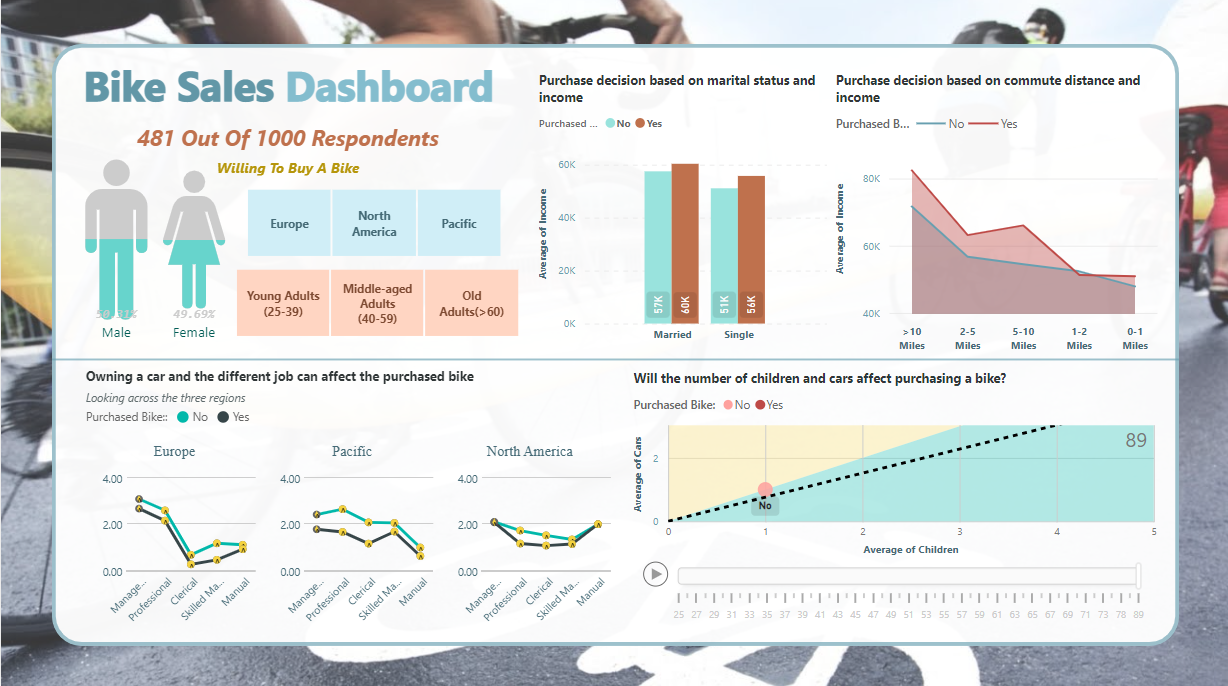

The dashboard page shown, as its layout file describes it:
{"tool":"powerbi","page":{"name":"Page 1","canvas":[1280,720],"ordinal":0},"visuals":[{"type":"shape","box":[53,49,1174,627],"z":0},{"type":"scatterChart","title":"Will the number of children and cars affect purchasing a bike?","fields":{"Y":["Avg(Sales_of_Bike.Cars)"],"X":["Avg(Sales_of_Bike.Children)"],"Play":["Sales_of_Bike.Age"],"Series":["Sales_of_Bike.PurchasedBike"]},"box":[648,378,565,286],"z":1000},{"type":"PBI_CV_73744D90_4DC9_4F18_8BA5_EE8FA5C98035","fields":{"Category":["Sales of Bike.Gender"],"Values":["Sales_of_Bike.CountYes","Sales_of_Bike.CountNo"]},"box":[67,114,188,255],"z":2000},{"type":"clusteredColumnChart","title":"Purchase decision based on marital status and income","fields":{"Category":["Sales_of_Bike.Marital Status"],"Y":["Avg(Sales_of_Bike.Income)"],"Series":["Sales_of_Bike.PurchasedBike"]},"box":[555,78,310,291],"z":3000},{"type":"slicer","fields":{"Values":["Sales_of_Bike.Region"]},"box":[231,194,313,83],"z":4000},{"type":"slicer","fields":{"Values":["Sort_order_agebracket.Age Bracket"]},"box":[219.8,277.1,342.7,83.3],"z":5000},{"type":"areaChart","title":"Purchase decision based on commute distance and income","fields":{"Y":["Avg(Sales_of_Bike.Income)"],"Series":["Sales_of_Bike.PurchasedBike"],"Category":["Sales_of_Bike.Commute Distance"]},"box":[865,78,348,300],"z":6000},{"type":"card","fields":{"Values":["Sales_of_Bike.Total"]},"box":[113,125,373,66],"z":7000},{"type":"PBI_CV_73744D90_4DC9_4F18_8BA5_EE8FA5C98035","title":"Owning a car and the different job can affect the purchased bike","fields":{"Category":["Sales_of_Bike.Occupation"],"Legend":["Sales_of_Bike.PurchasedBike"],"Values":["Avg(Sales_of_Bike.Cars)"],"Columns":["Sales_of_Bike.Region"]},"box":[83,386,565,278],"z":8000},{"type":"textbox","box":[53,57,493,68],"z":9000},{"type":"shape","box":[53,352,1174,51],"z":10000}]}

Visuals, with their boxes in screenshot pixels (x1, y1, x2, y2), scaled from the page's 1280x720 canvas onto the 1228x686 screenshot:
shape: 51,47,1177,644
"Will the number of children and cars affect purchasing a bike?" scatterChart: 622,360,1164,633
PBI_CV_73744D90_4DC9_4F18_8BA5_EE8FA5C98035 - Sales of Bike.Gender x Sales_of_Bike.CountYes: 64,109,245,352
"Purchase decision based on marital status and income" clusteredColumnChart: 532,74,830,352
slicer - Sales_of_Bike.Region: 222,185,522,264
slicer - Sort_order_agebracket.Age Bracket: 211,264,540,343
"Purchase decision based on commute distance and income" areaChart: 830,74,1164,360
card - Sales_of_Bike.Total: 108,119,466,182
"Owning a car and the different job can affect the purchased bike" PBI_CV_73744D90_4DC9_4F18_8BA5_EE8FA5C98035: 80,368,622,633
textbox: 51,54,524,119
shape: 51,335,1177,384
